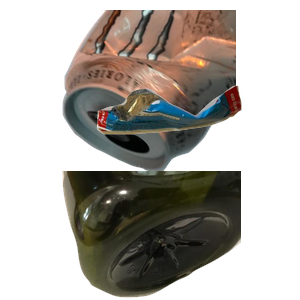glass: (73, 184, 214, 300)
metal: (60, 10, 300, 175)
plastic: (60, 171, 300, 300)
trash: (94, 83, 300, 210)
